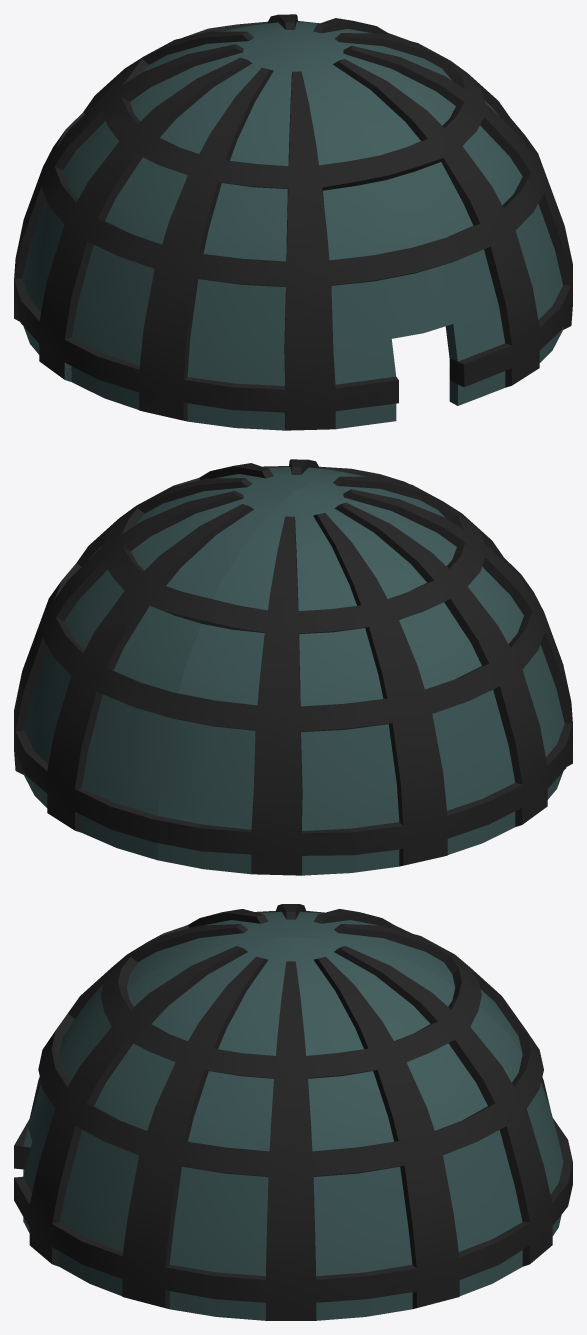
File: BiodomeNewGroup.fbx
3 renders of one model, top to bottom at view 1: azimuth 30°, elevation 25°; view 2: azimuth 150°, elevation 25°; view 3: azimuth 270°, elevation 25°, orthographic.
Parts seen in each view (by area): view 1: Biodome_Framing, Biodome_Windows; view 2: Biodome_Framing, Biodome_Windows; view 3: Biodome_Framing, Biodome_Windows.
Part boxes in pixels (x1=…): Biodome_Framing: x1=14, y1=14, x2=572, y2=430; Biodome_Windows: x1=22, y1=22, x2=563, y2=430; Biodome_Framing: x1=14, y1=459, x2=572, y2=875; Biodome_Windows: x1=23, y1=467, x2=564, y2=875; Biodome_Framing: x1=14, y1=904, x2=572, y2=1320; Biodome_Windows: x1=23, y1=911, x2=563, y2=1320.
Size of the model in its own units: 3640 by 1937 by 3639.
